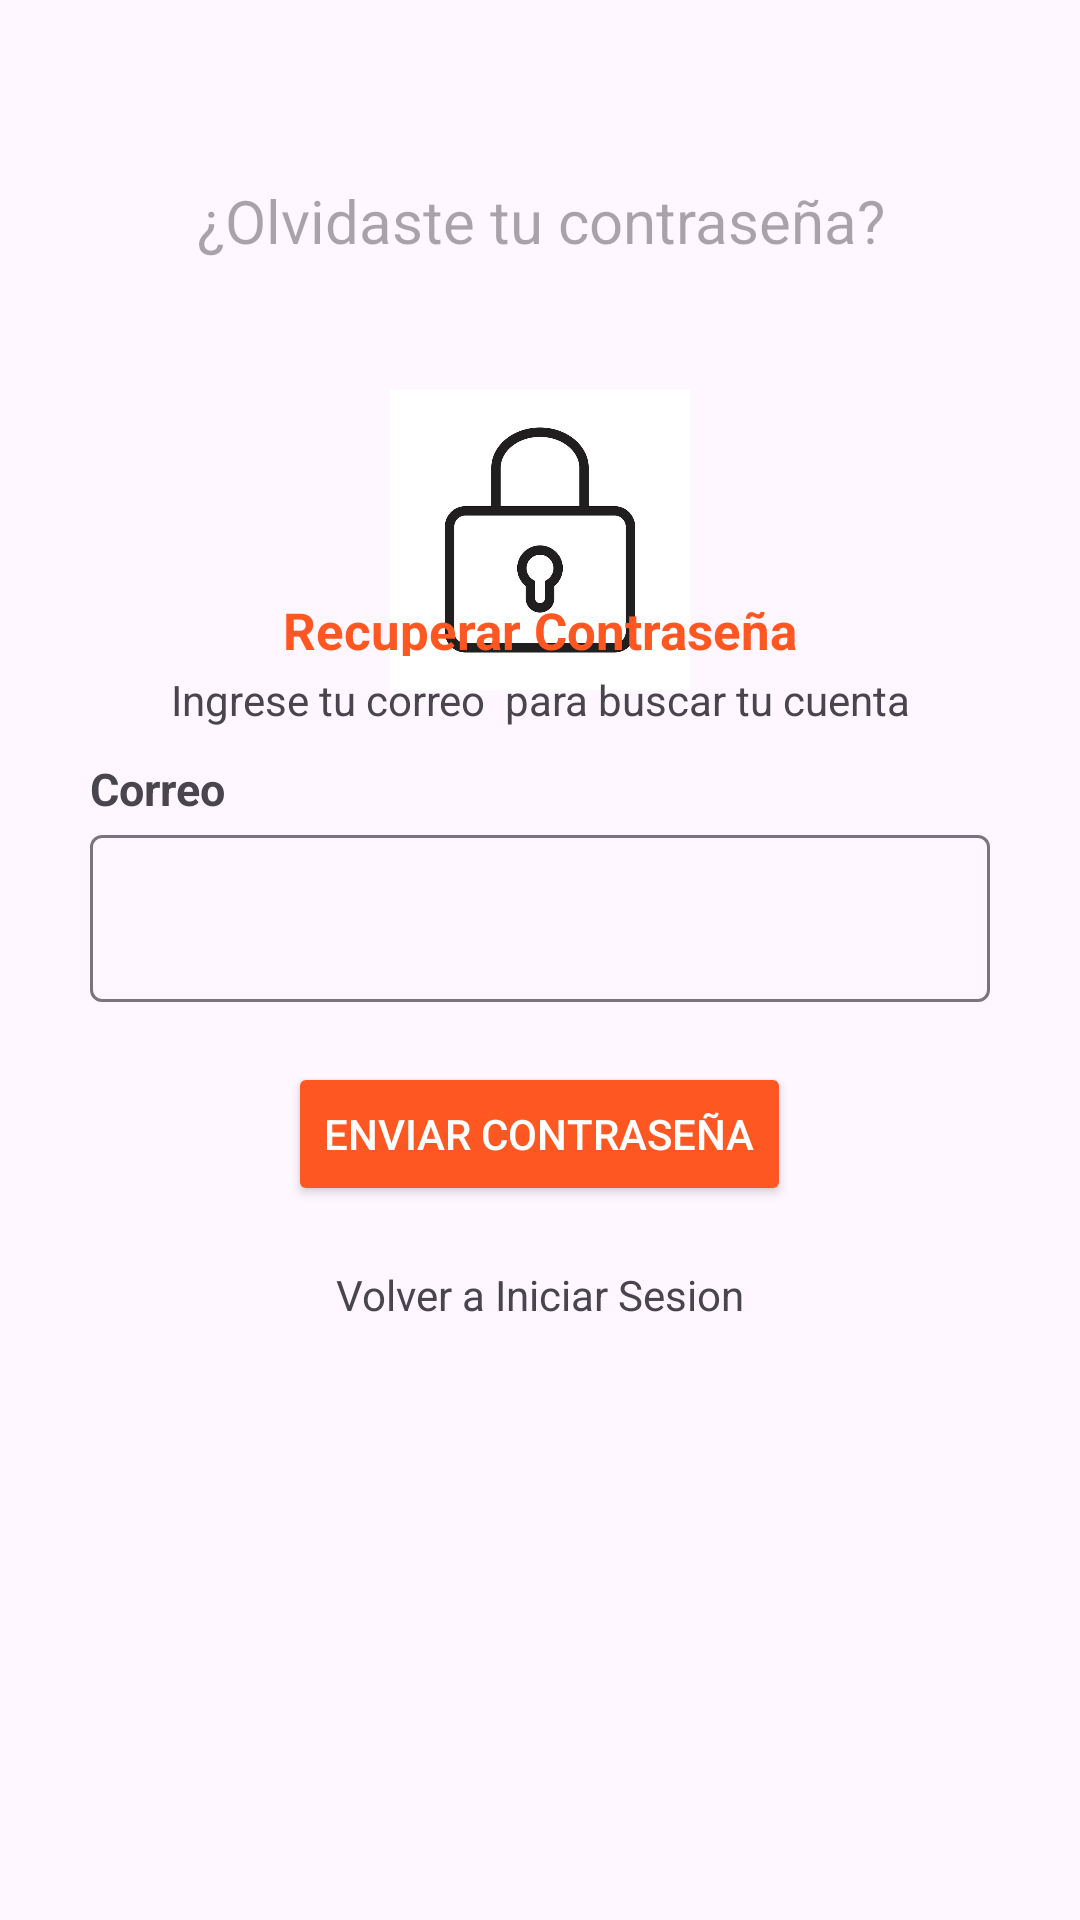

Where icons sit on this 1080 x 1920 app screen, as (x1, y1, x2, y2):
candado: (402, 427, 686, 656)
